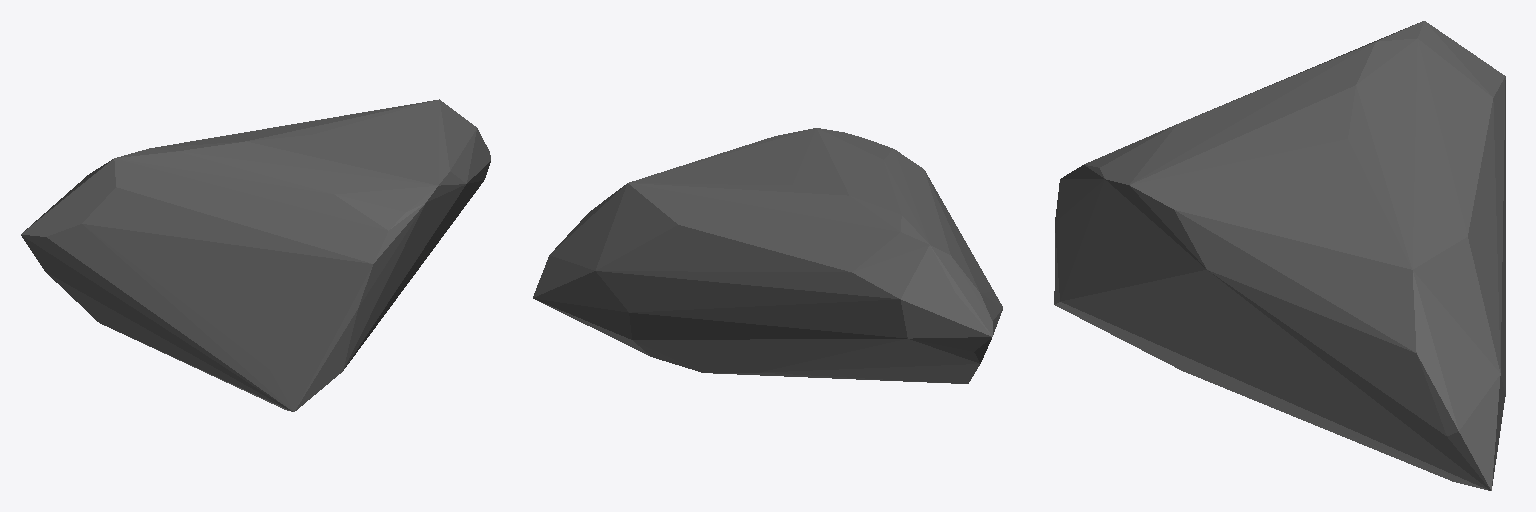
The robot description file, URDF, robot "100_325":
<?xml version="1.0"?>
<robot name="100_325">
  <link name="link">
    <contact>
      <lateral_friction value="0.6"/>
    </contact>
    <inertial>
      <mass value = "0.4167929612961932"/>
      <inertia ixx="0.00015668135146120306" ixy="2.1405572155514108e-05" ixz="4.0716935539956094e-06" iyy="0.00027839638104378727" iyz="4.628198235731328e-06" izz="0.000331189978451791" />
    </inertial>
    <visual name="visual">
      <geometry>
        <mesh filename="100_325.obj"/>
      </geometry>
      <material name="material">
        <color rgba="0.4212774618234052 0.4212774618234052 0.4212774618234052 1.0"/>
      </material>
    </visual>
    <collision name="collision">
      <geometry>
        <mesh filename="100_325.obj"/>
      </geometry>
    </collision>
  </link>
</robot>

--- Render facts (derived) ---
3 views of the same robot in one strip: view 1: azimuth 30°, elevation 25°; view 2: azimuth 150°, elevation 25°; view 3: azimuth 270°, elevation 25° (orthographic).
Model 100_325 with 1 links and 0 joints (none), rooted at link, posed every joint at zero.
Visible links, largest first — view 1: link; view 2: link; view 3: link.
Link boxes in pixels (<box>): link: <box>21,99,490,411</box>; link: <box>533,128,1002,383</box>; link: <box>1054,21,1505,490</box>.
Bounding box of the posed robot: 0.1199 × 0.0687 × 0.0489 m (x, y, z).
1 mesh visuals loaded from 1 distinct referenced files (1 OBJ).
